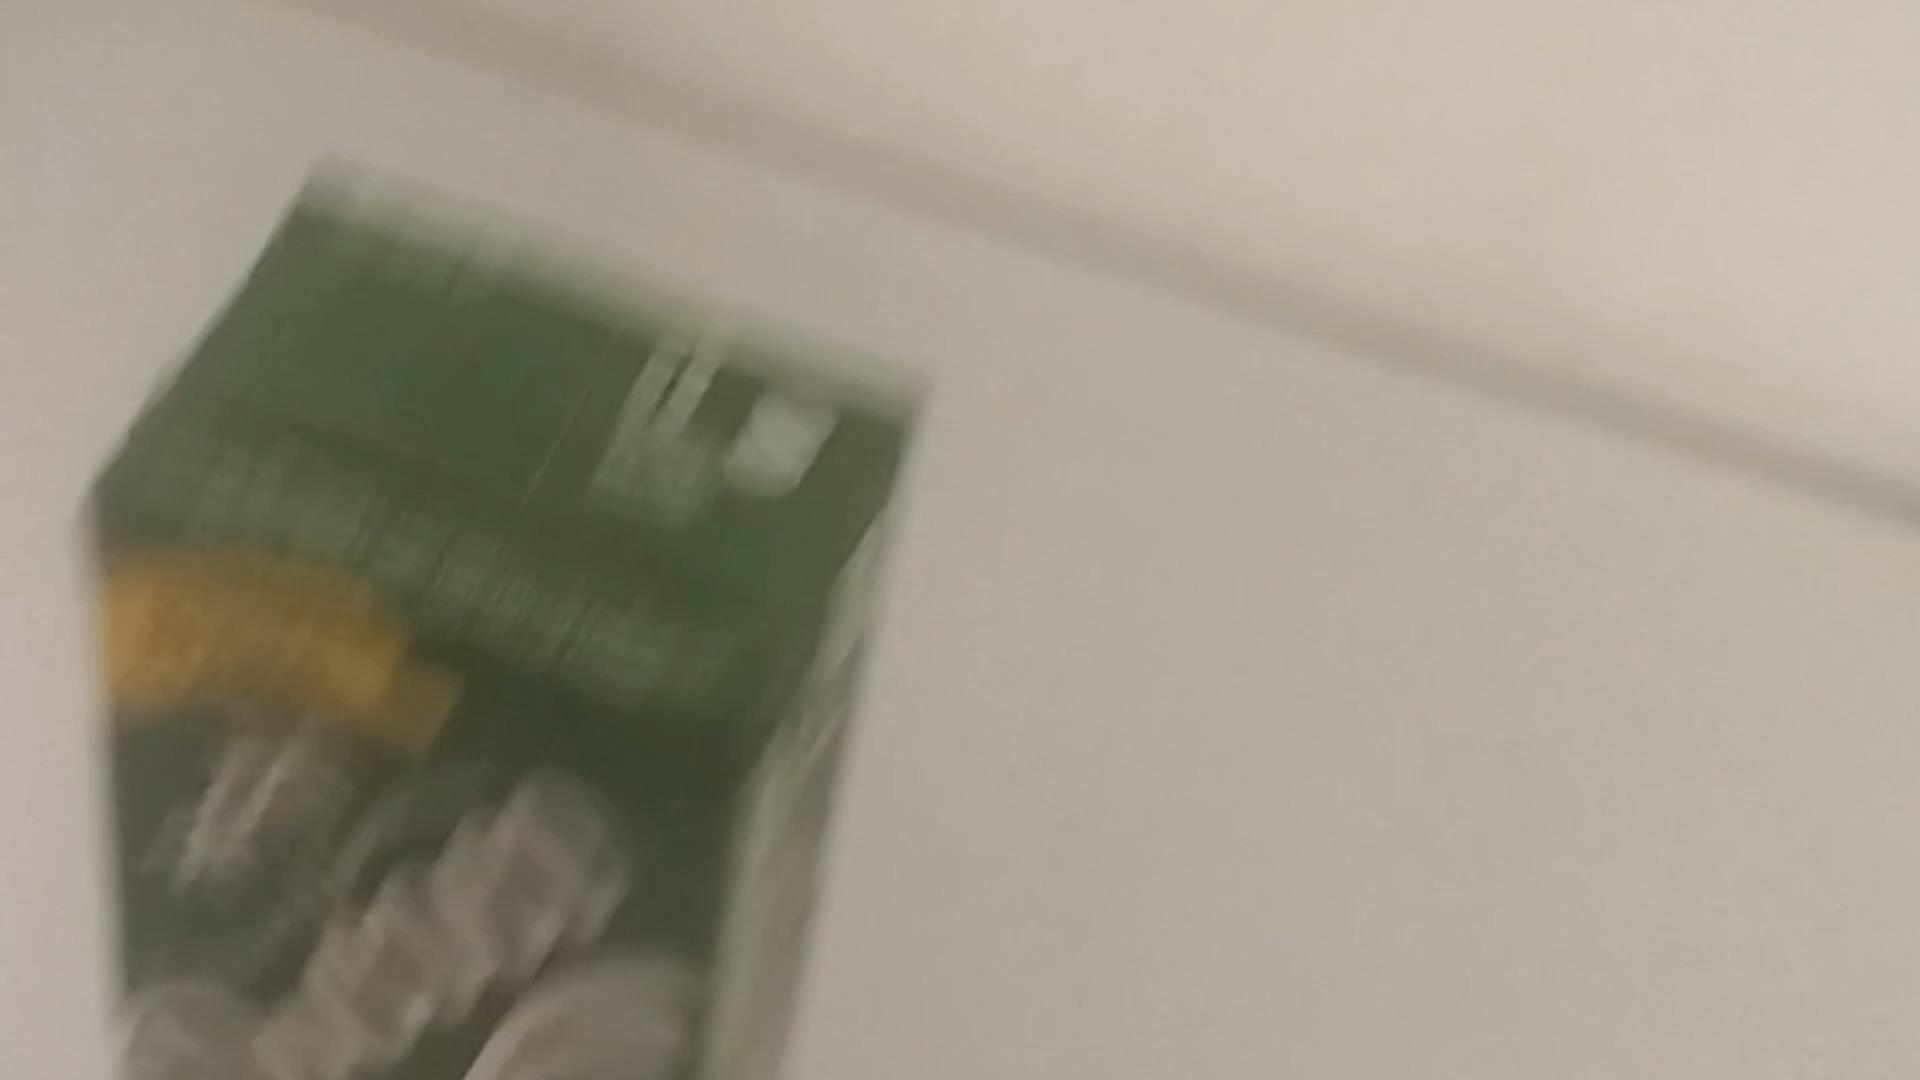coco: (92, 198, 913, 1080)
